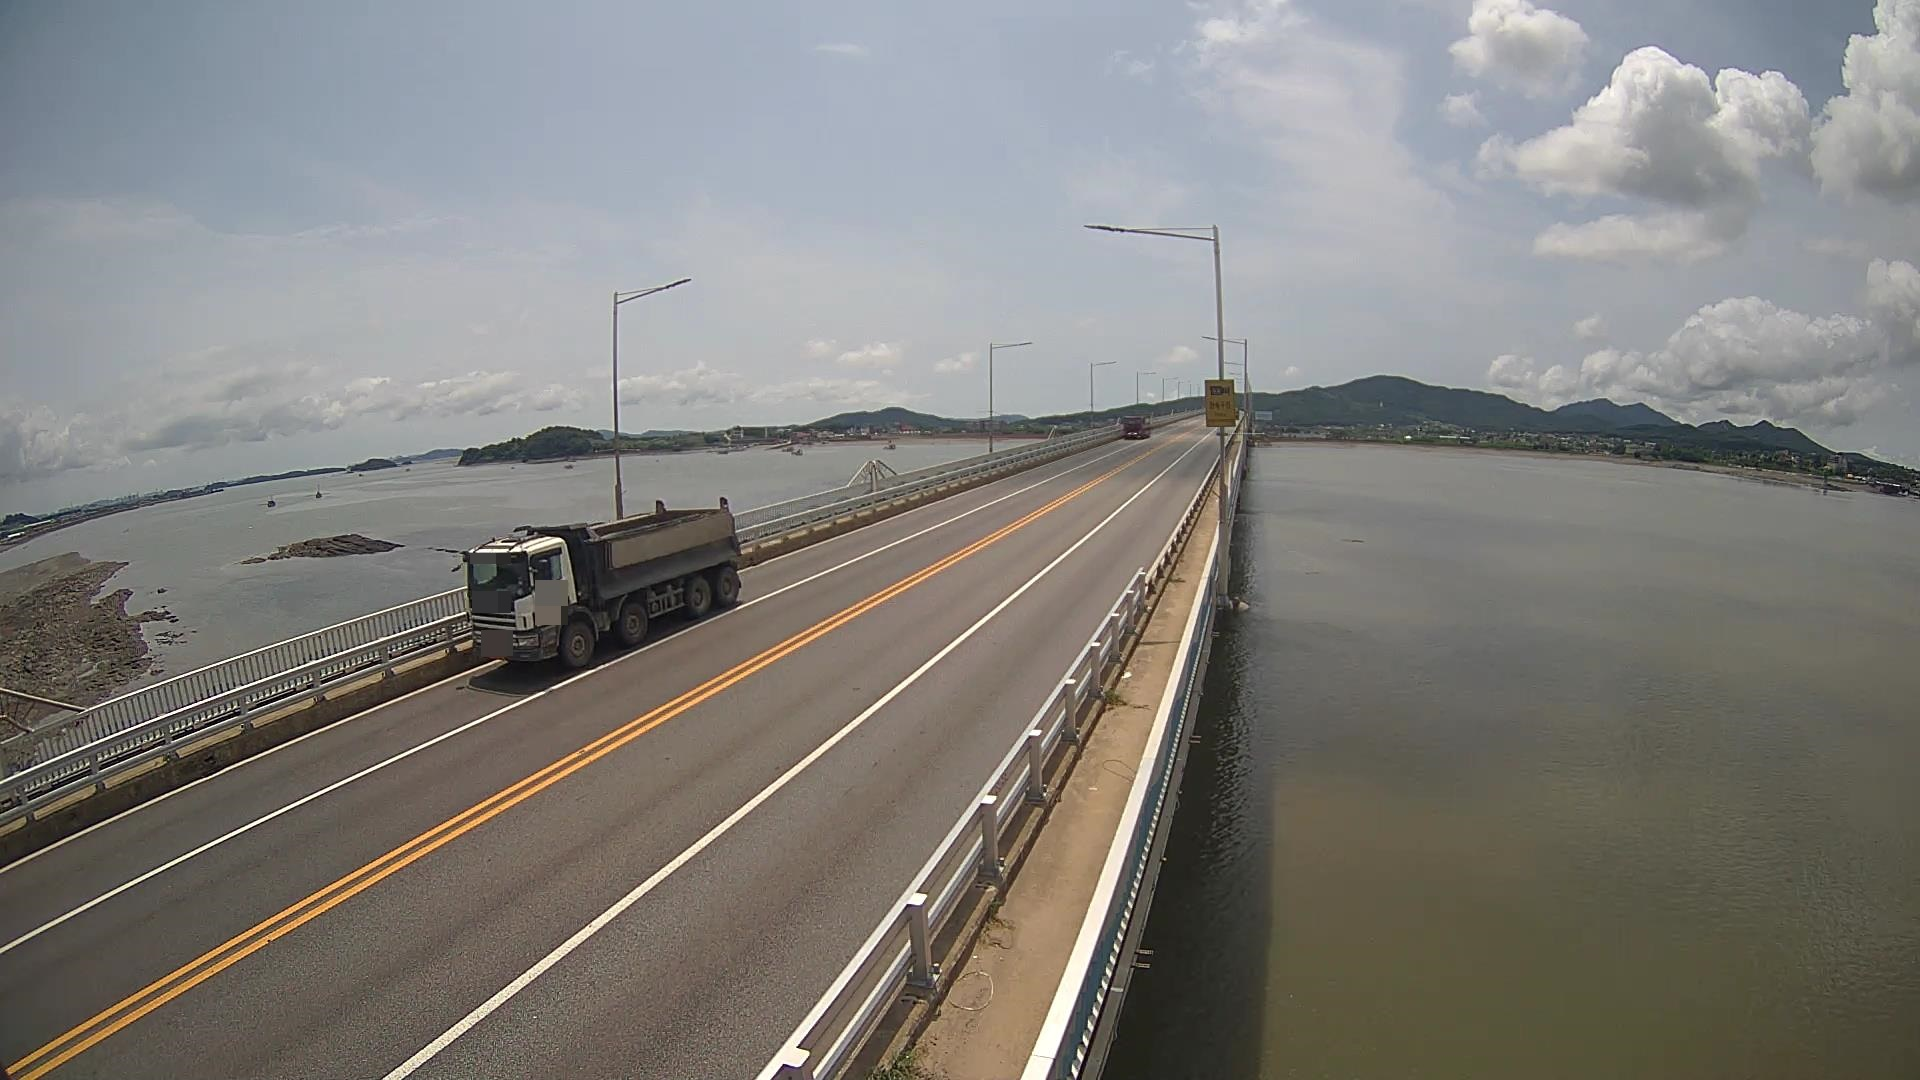정상차량: (452, 496, 741, 669)
